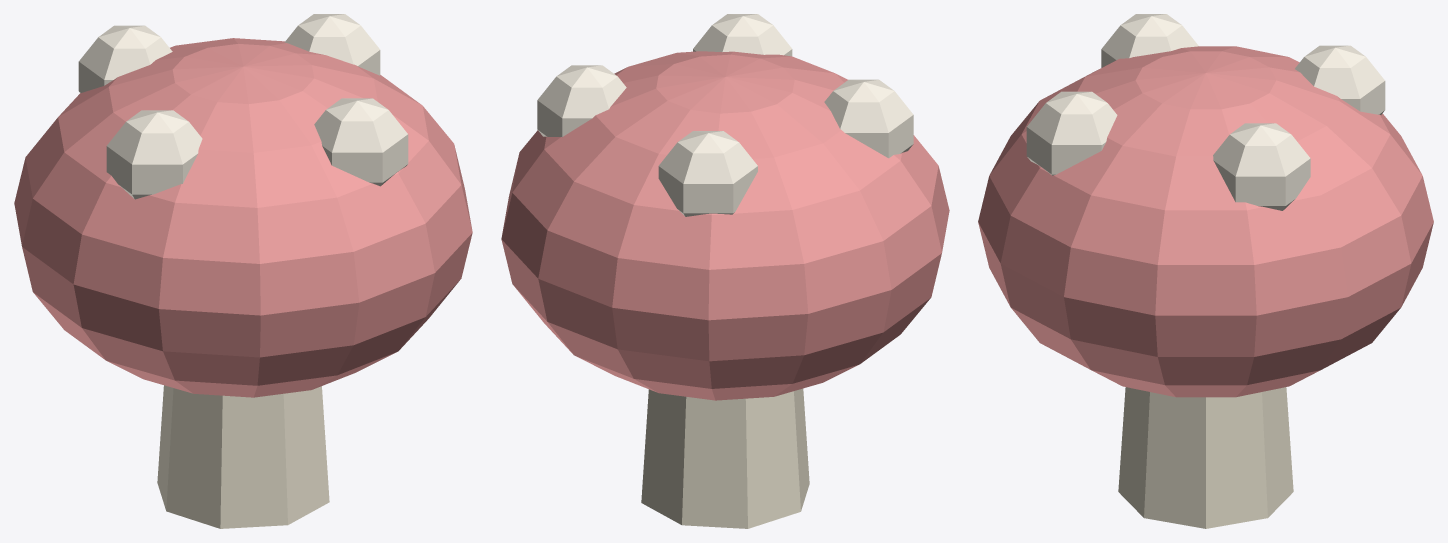
File: mushroom.glb
3 views of the same model, side by side, from view 1: azimuth 30°, elevation 25°; view 2: azimuth 150°, elevation 25°; view 3: azimuth 270°, elevation 25° (orthographic). The views are drawn at different scales.
Visible parts, largest first — view 1: mushroom; view 2: mushroom; view 3: mushroom.
Part boxes in pixels (x1,y1,x2,y2): mushroom: (14,14,472,528); mushroom: (501,14,949,528); mushroom: (978,14,1433,528).
Size of the model in its own units: 0.2535 by 0.265 by 0.26.
